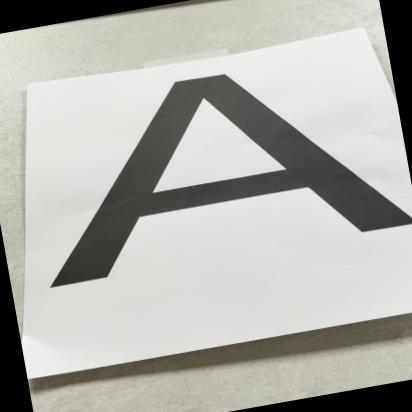seat: (14, 33, 412, 362)
